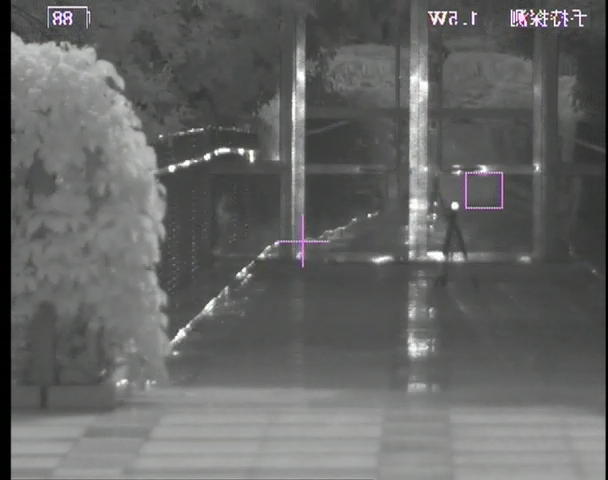my: (450, 200, 460, 211)
